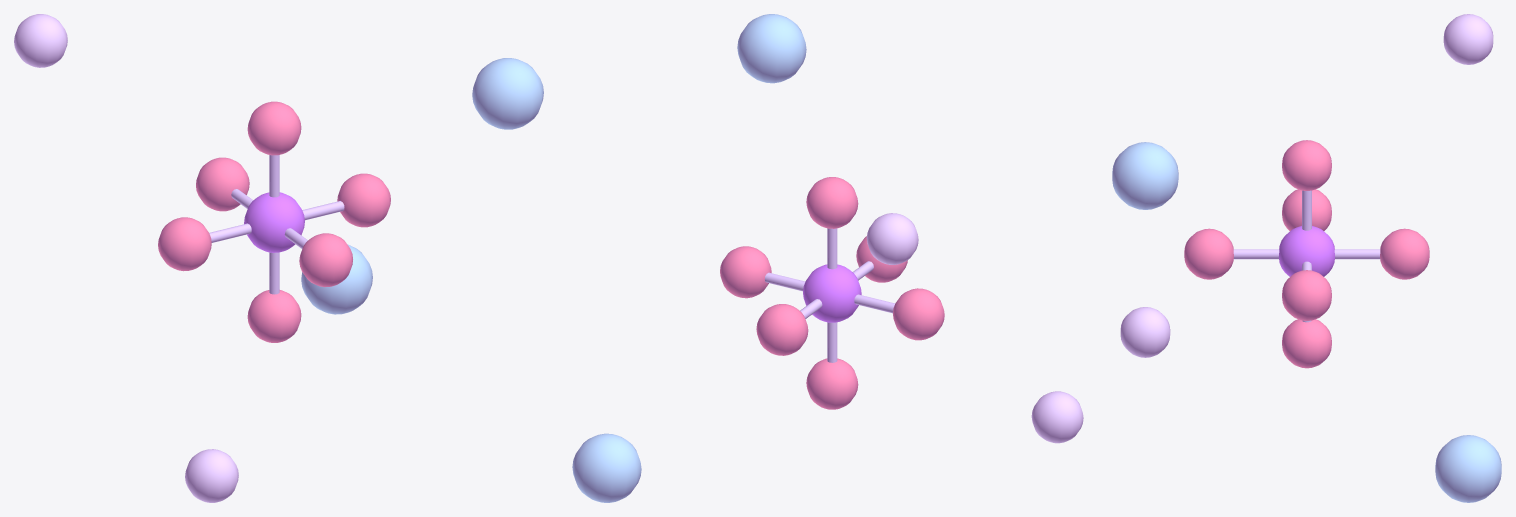
File: phosphor_cell.glb
3 renders of one model, left to right at view 1: azimuth 30°, elevation 25°; view 2: azimuth 150°, elevation 25°; view 3: azimuth 270°, elevation 25°, orthographic. The views are drawn at different scales.
Parts seen in each view (by area): view 1: phosphor_cell; view 2: phosphor_cell; view 3: phosphor_cell.
Boxes of the visible parts, left/top/right/bottom form: phosphor_cell: left=14, top=14, right=543, bottom=502; phosphor_cell: left=572, top=14, right=1083, bottom=502; phosphor_cell: left=1112, top=14, right=1501, bottom=502.
Size of the model in its own units: 4.5 by 4.6 by 4.58.
